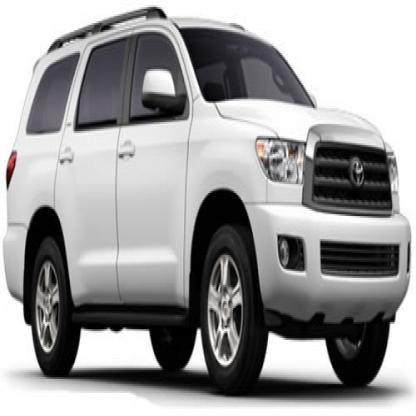Vehicle: (2, 2, 414, 398)
